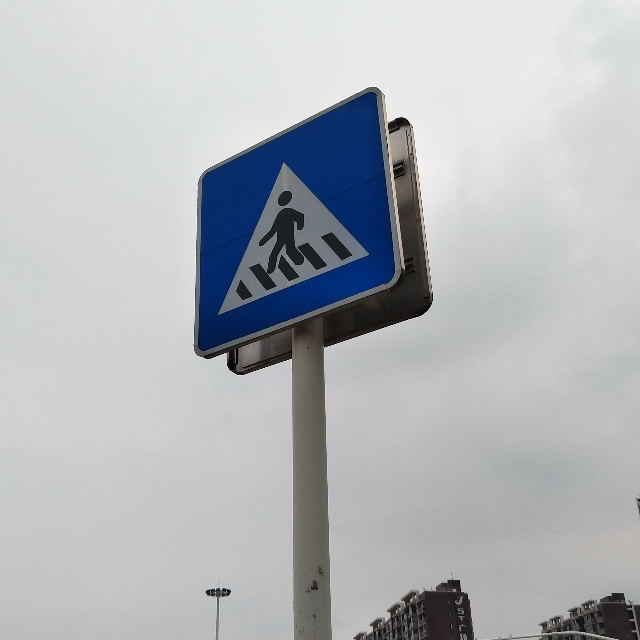crosswalk: (209, 152, 381, 313)
